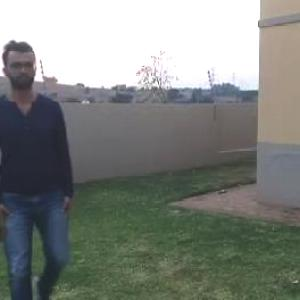follow: (1, 35, 85, 299)
